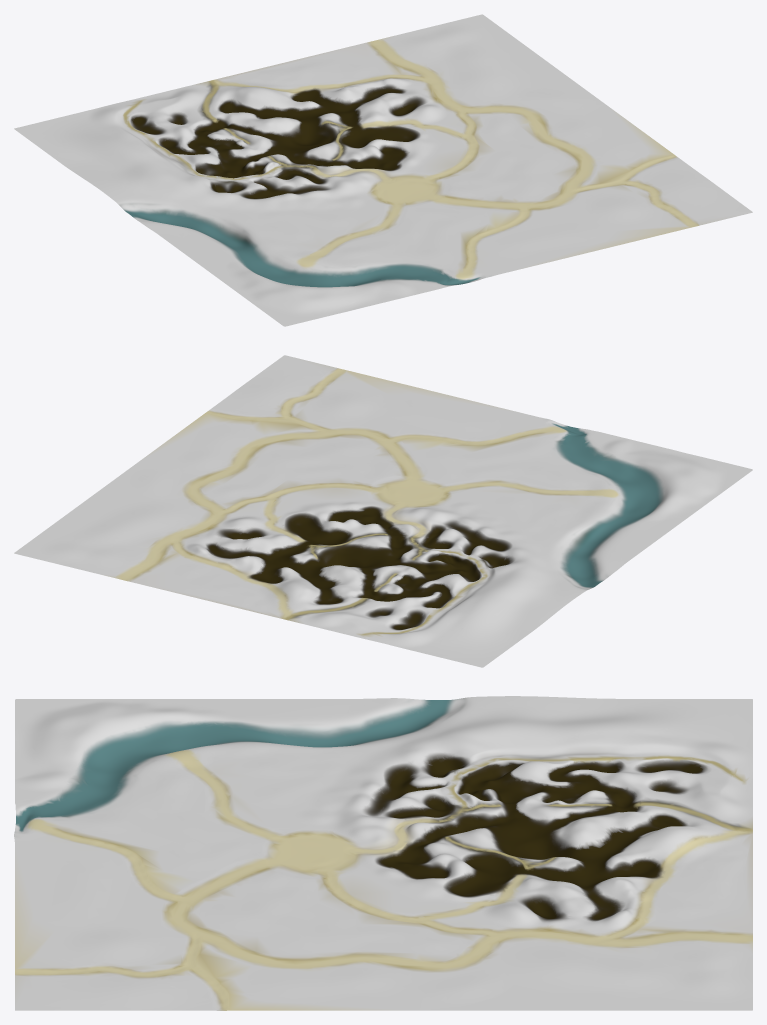
The model's file is Maap Dez 3.glb.
3 views of the same model, one above another, from view 1: azimuth 30°, elevation 25°; view 2: azimuth 150°, elevation 25°; view 3: azimuth 270°, elevation 25° (orthographic). The views are drawn at different scales.
Parts seen in each view (by area): view 1: Plane 2; view 2: Plane 2; view 3: Plane 2.
Boxes of the visible parts, <box> form: Plane 2: <box>14,14,752,326</box>; Plane 2: <box>14,355,752,667</box>; Plane 2: <box>14,696,752,1010</box>.
Bounding box in the file's own units: 4.99 × 0.1985 × 4.98.
